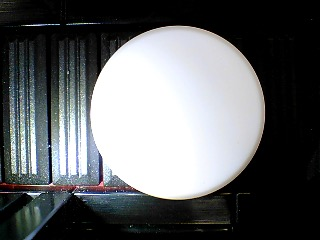BLANK: (89, 25, 266, 201)
